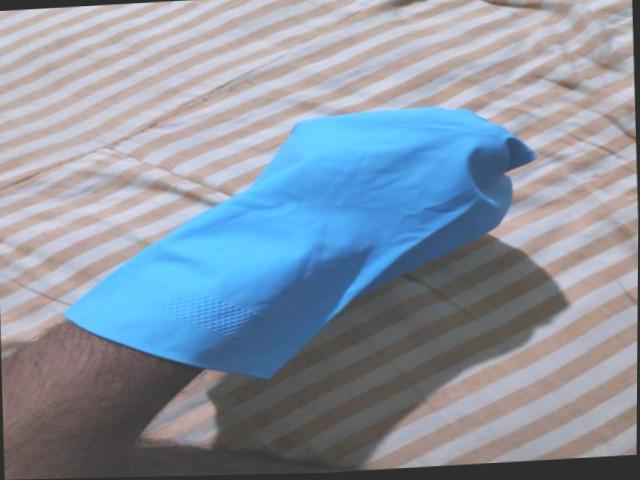Hand-in-Glove: (39, 84, 583, 392)
